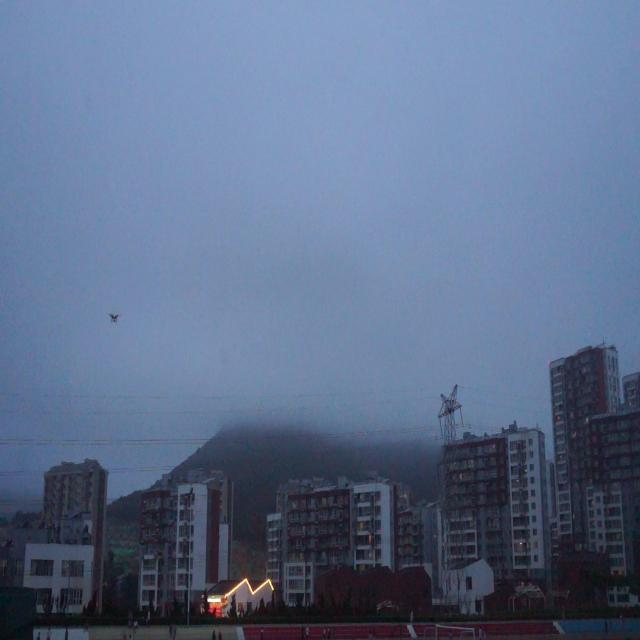UAV: (107, 313, 122, 324)
